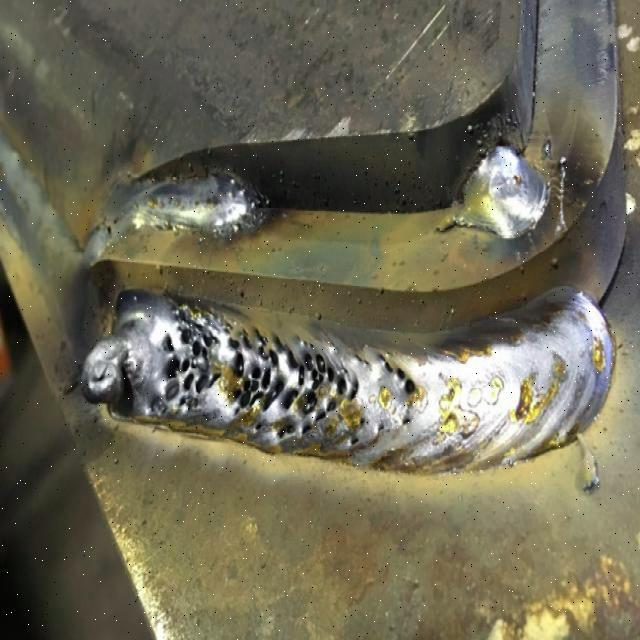Porosity: (225, 323, 357, 444), (156, 306, 224, 414), (374, 342, 425, 403), (349, 347, 368, 371), (396, 412, 414, 433), (349, 434, 364, 451), (377, 422, 389, 434), (357, 413, 367, 427)
